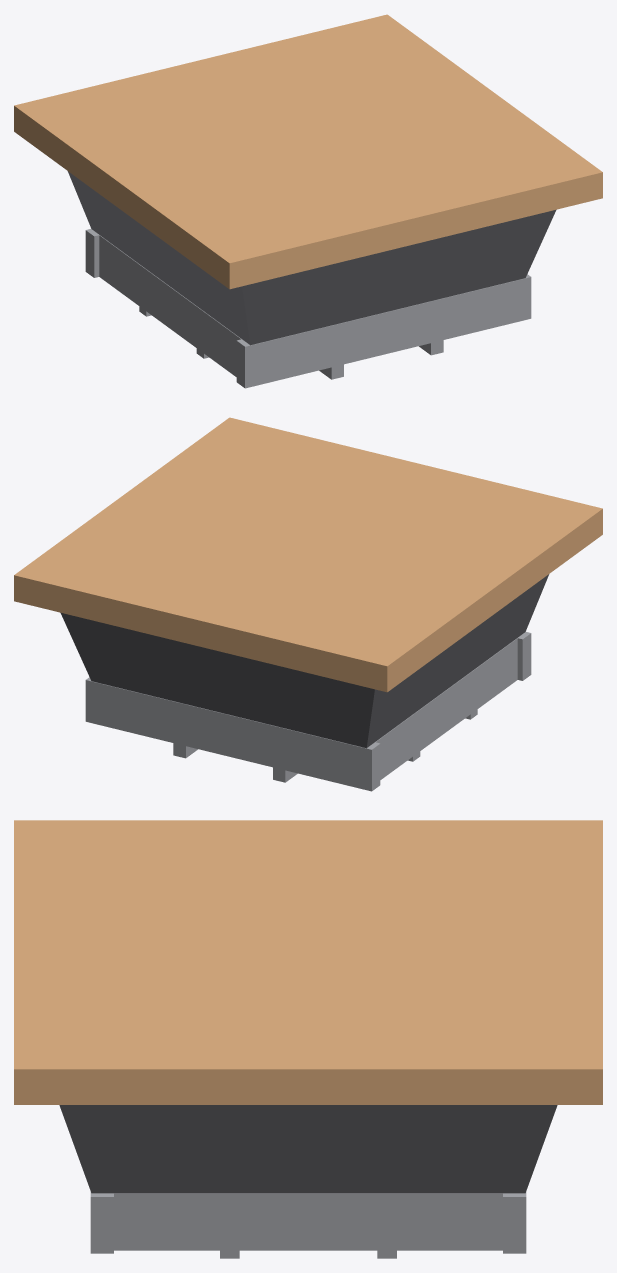
File: ceiling_light.glb
3 views of the same model, one above another, from view 1: azimuth 30°, elevation 25°; view 2: azimuth 150°, elevation 25°; view 3: azimuth 270°, elevation 25° (orthographic). The views are drawn at different scales.
Parts seen in each view (by area): view 1: CeilingLight; view 2: CeilingLight; view 3: CeilingLight.
Boxes of the visible parts, left/top/right/bottom form: CeilingLight: left=14, top=14, right=602, bottom=388; CeilingLight: left=14, top=417, right=602, bottom=791; CeilingLight: left=14, top=820, right=602, bottom=1258.
Bounding box in the file's own units: 0.3 × 0.13 × 0.3.
